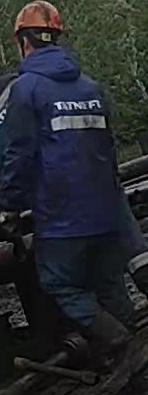helmet: (13, 0, 65, 41)
vest: (0, 69, 123, 237)
